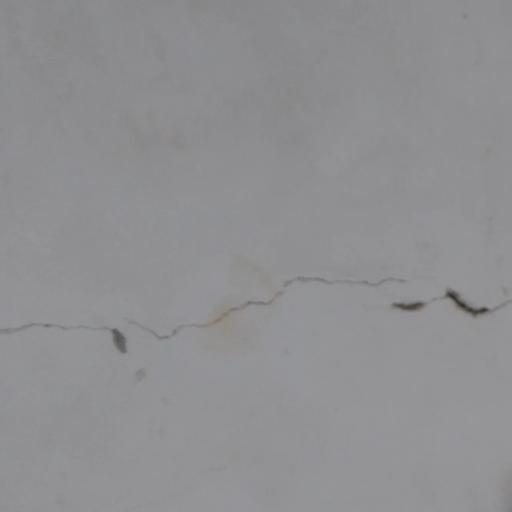minor_crack: (0, 249, 512, 380)
